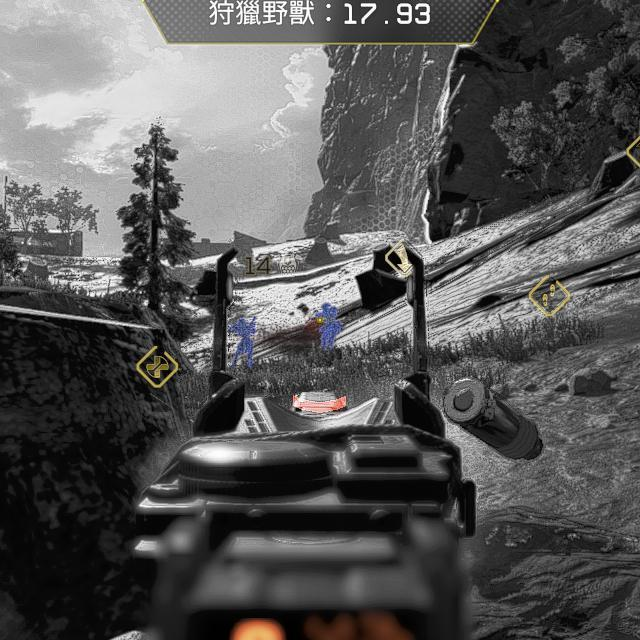avatar: (230, 317, 256, 366), (315, 302, 342, 349)
